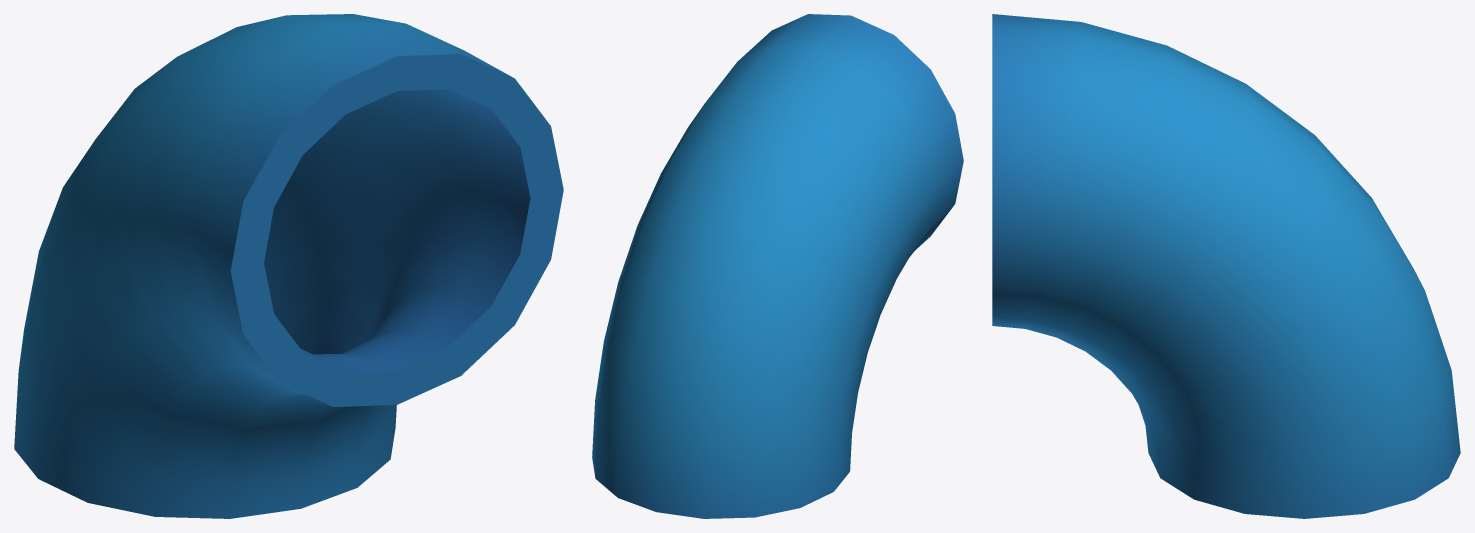
Rendered from pipe-90-a-blue.glb.
3 views of the same model, side by side, from view 1: azimuth 30°, elevation 25°; view 2: azimuth 150°, elevation 25°; view 3: azimuth 270°, elevation 25° (orthographic). The views are drawn at different scales.
Parts seen in each view (by area): view 1: pipe_90_A_blue; view 2: pipe_90_A_blue; view 3: pipe_90_A_blue.
Boxes of the visible parts, bbox=[...] form: pipe_90_A_blue: bbox=[14, 14, 563, 518]; pipe_90_A_blue: bbox=[592, 14, 963, 518]; pipe_90_A_blue: bbox=[992, 14, 1460, 518].
Size of the model in its own units: 2 by 3 by 3.
Materials: 1 (1 with a texture image).
